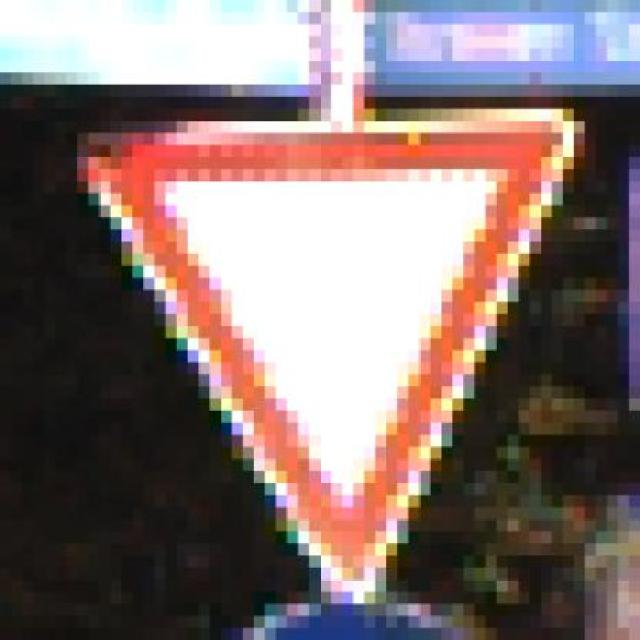Give Way: (56, 101, 587, 621)
